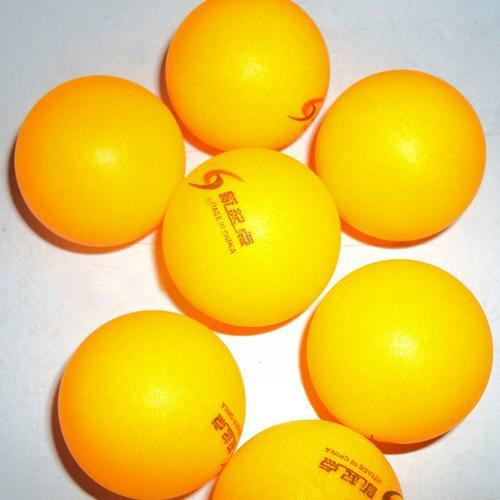ball: (45, 302, 249, 499), (298, 255, 493, 451), (159, 140, 345, 336), (8, 69, 190, 256), (309, 65, 489, 246), (152, 1, 339, 154)
